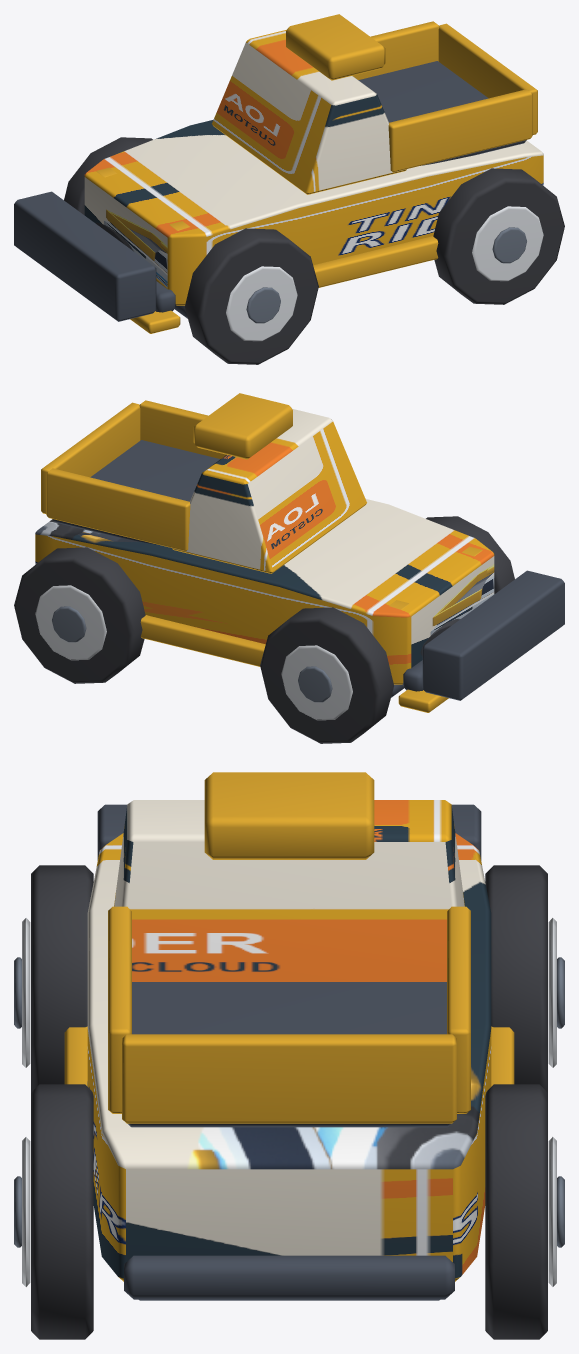
The picture shows the model from 3 angles, top to bottom: view 1: azimuth 30°, elevation 25°; view 2: azimuth 150°, elevation 25°; view 3: azimuth 270°, elevation 25°; orthographic projection. The views are drawn at different scales.
Visible parts, largest first — view 1: WY-05_connected_shell, WY-05_cabin, loader bucket, Tire, Tire.002, cargo side, cargo floor, custom equipment, cargo tail, Rim.002, Rim, custom side guard (+6 smaller); view 2: WY-05_connected_shell, WY-05_cabin, loader bucket, Tire.001, Tire.003, cargo side.001, cargo floor, custom equipment, cargo tail, Rim.003, Rim.001, custom side guard.001 (+6 smaller); view 3: WY-05_connected_shell, WY-05_cabin, cargo tail, cargo floor, Tire.002, Tire.003, custom equipment, rear bumper, Tire, Tire.001, cargo side, cargo side.001 (+7 smaller).
Boxes of the visible parts, <box> form: WY-05_connected_shell: <box>84,120,543,305</box>; WY-05_cabin: <box>212,29,406,194</box>; loader bucket: <box>14,191,156,321</box>; Tire: <box>185,228,318,364</box>; Tire.002: <box>433,168,564,304</box>; cargo side: <box>388,89,532,172</box>; cargo floor: <box>358,61,526,165</box>; custom equipment: <box>286,14,385,80</box>; cargo tail: <box>438,23,537,134</box>; Rim.002: <box>472,206,543,281</box>; Rim: <box>226,266,297,341</box>; custom side guard: <box>313,236,438,287</box>; WY-05_connected_shell: <box>35,499,494,684</box>; WY-05_cabin: <box>172,408,366,573</box>; loader bucket: <box>422,570,564,700</box>; Tire.001: <box>260,607,393,743</box>; Tire.003: <box>14,547,145,683</box>; cargo side.001: <box>46,468,190,551</box>; cargo floor: <box>52,440,220,544</box>; custom equipment: <box>193,393,292,459</box>; cargo tail: <box>41,402,140,513</box>; Rim.003: <box>35,585,106,660</box>; Rim.001: <box>281,645,352,720</box>; custom side guard.001: <box>140,615,265,666</box>; WY-05_connected_shell: <box>87,833,491,1281</box>; WY-05_cabin: <box>114,800,464,981</box>; cargo tail: <box>122,1034,456,1123</box>; cargo floor: <box>127,982,451,1127</box>; Tire.002: <box>31,1084,93,1339</box>; Tire.003: <box>485,1084,547,1339</box>; custom equipment: <box>204,772,374,859</box>; rear bumper: <box>124,1255,454,1299</box>; Tire: <box>31,865,93,1092</box>; Tire.001: <box>485,865,547,1092</box>; cargo side: <box>108,906,131,1113</box>; cargo side.001: <box>447,906,470,1113</box>.
Bounding box in the file's own units: 389 × 203 × 228.
